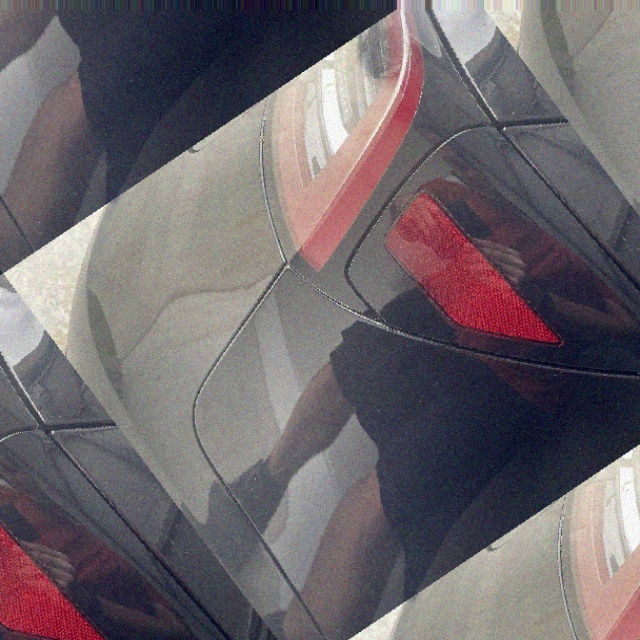reflector: (367, 175, 568, 394)
